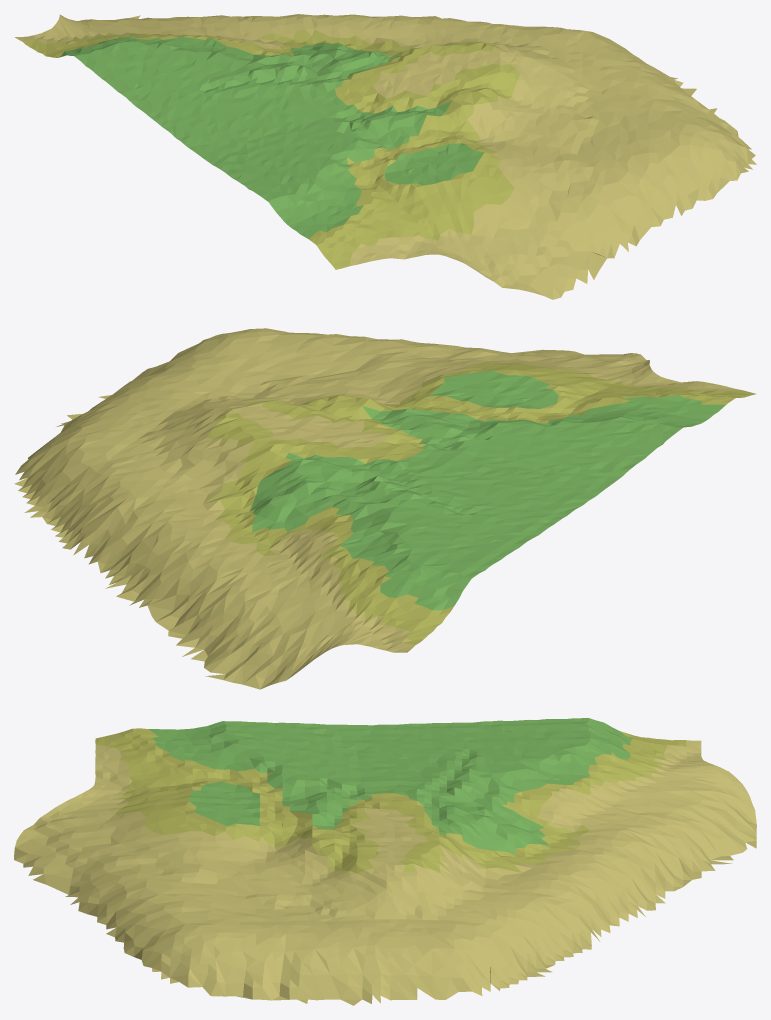
The model's file is IntroTerrain.fbx.
3 views of the same model, one above another, from view 1: azimuth 30°, elevation 25°; view 2: azimuth 150°, elevation 25°; view 3: azimuth 270°, elevation 25° (orthographic). The views are drawn at different scales.
Visible parts, largest first — view 1: IntroTerrain; view 2: IntroTerrain; view 3: IntroTerrain.
Boxes of the visible parts, box(x1,y1,x2,y2) form: IntroTerrain: box(14, 14, 756, 299); IntroTerrain: box(14, 328, 755, 689); IntroTerrain: box(14, 718, 756, 1005).
Size of the model in its own units: 145 by 18.52 by 198.
